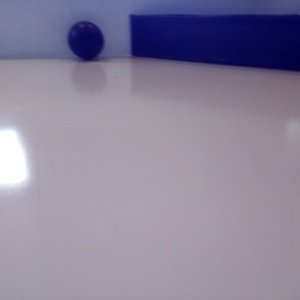zone: (129, 14, 300, 71)
